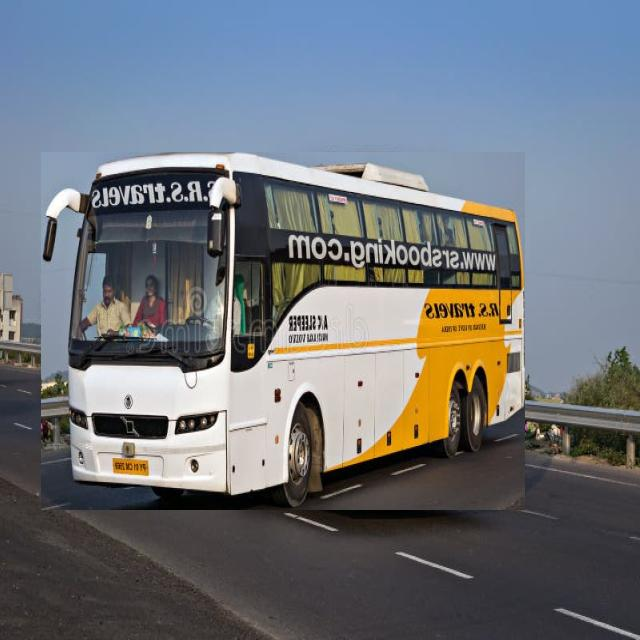bus: (42, 153, 525, 510)
